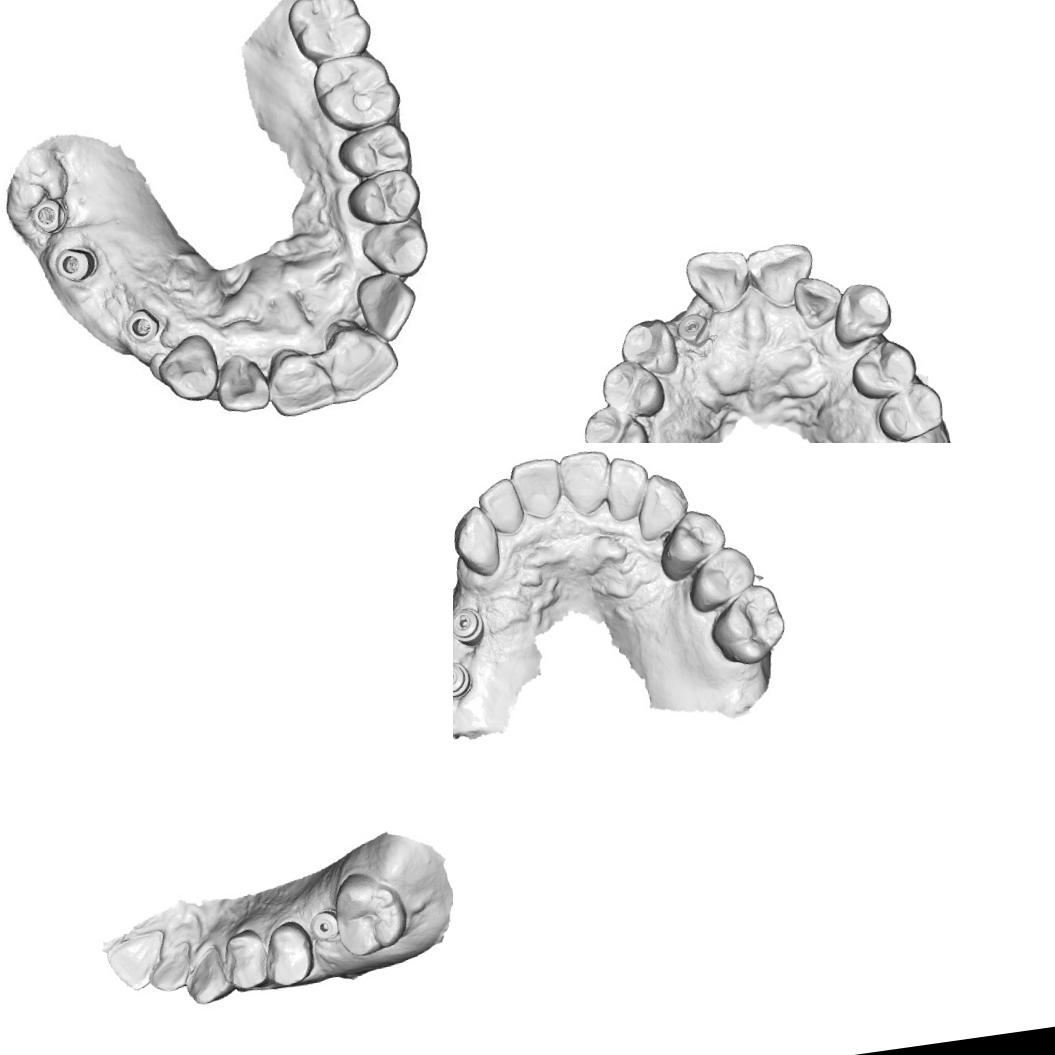canine: (154, 328, 229, 408), (355, 215, 432, 283), (827, 278, 898, 351), (631, 470, 693, 545), (616, 315, 683, 382), (453, 502, 504, 581), (181, 942, 237, 1007)
implant: (119, 297, 167, 348), (52, 241, 98, 286), (26, 194, 69, 237), (674, 311, 711, 349), (308, 906, 340, 942), (453, 659, 475, 703)
implant_minus: (453, 605, 487, 650)
incisor: (324, 316, 399, 404), (744, 240, 818, 311), (682, 246, 754, 318), (267, 352, 339, 418), (103, 927, 171, 994), (557, 447, 617, 518), (209, 350, 271, 416), (358, 270, 417, 339), (508, 454, 567, 523), (600, 452, 655, 524), (790, 270, 846, 333), (475, 476, 527, 538), (144, 940, 196, 995)
molar: (312, 47, 402, 134), (704, 579, 790, 670), (330, 866, 410, 959), (285, 0, 374, 66)
premolar: (653, 505, 731, 584), (683, 543, 760, 615), (846, 336, 921, 403), (597, 355, 668, 424), (873, 377, 946, 443), (342, 168, 423, 227), (259, 918, 318, 990), (335, 123, 408, 175), (218, 926, 272, 994), (578, 400, 654, 443)
